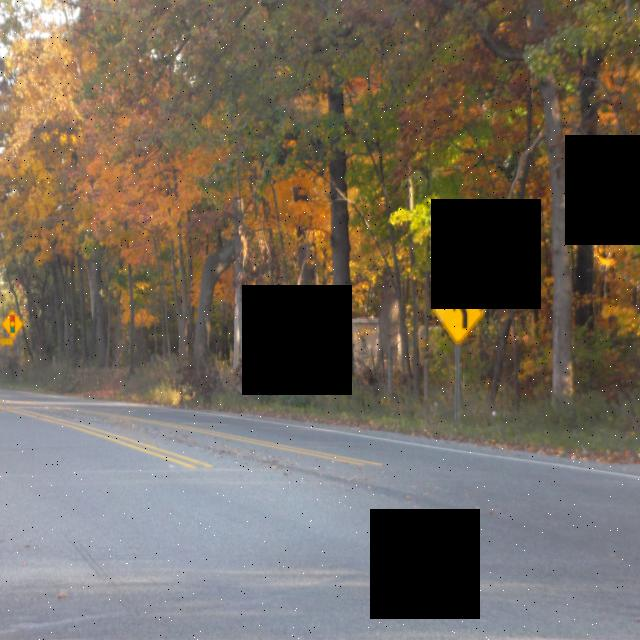warning: (429, 276, 489, 350), (1, 308, 26, 344)
